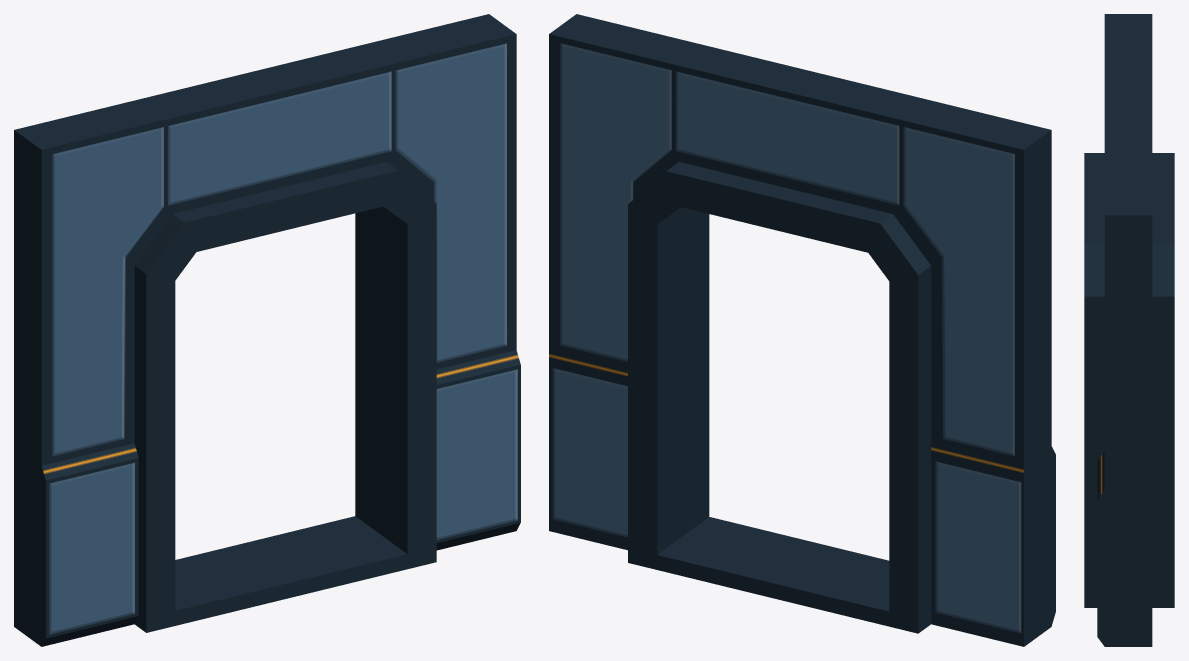
File: Pintu3m (1).dae
3 views of the same model, side by side, from view 1: azimuth 30°, elevation 25°; view 2: azimuth 150°, elevation 25°; view 3: azimuth 270°, elevation 25° (orthographic). The views are drawn at different scales.
Parts seen in each view (by area): view 1: Cube.044; view 2: Cube.044; view 3: Cube.044.
Boxes of the visible parts, bbox=[...] form: Cube.044: bbox=[14, 14, 520, 646]; Cube.044: bbox=[549, 14, 1055, 646]; Cube.044: bbox=[1084, 14, 1174, 646].
Size of the model in its own units: 3 by 0.5709 by 3.
